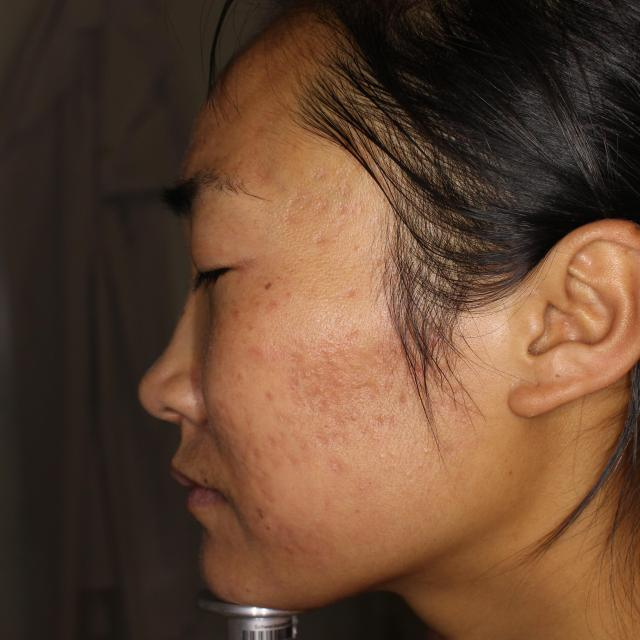acne: (297, 384, 333, 403), (322, 425, 342, 450), (248, 475, 267, 501), (246, 344, 270, 363), (322, 350, 341, 374), (222, 303, 248, 318), (254, 506, 272, 522)
